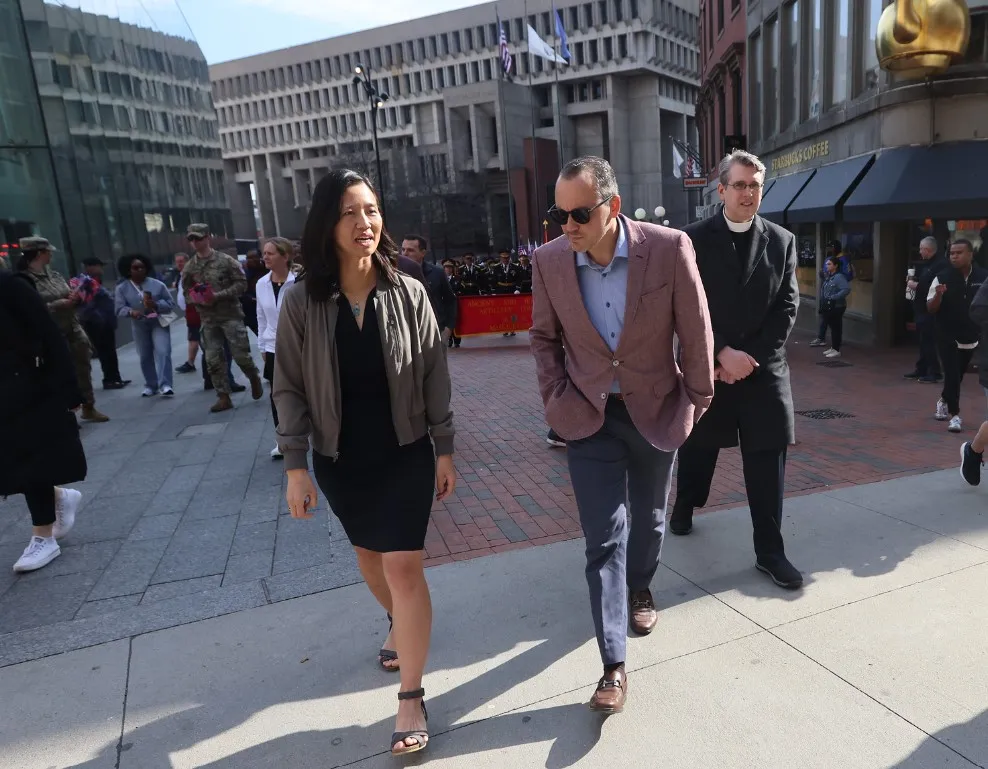person: (523, 146, 720, 724), (271, 159, 458, 759), (660, 147, 817, 594), (168, 218, 268, 413), (13, 218, 94, 422), (929, 225, 988, 424), (110, 244, 183, 401), (250, 231, 306, 401), (398, 221, 457, 354), (76, 244, 122, 400), (905, 234, 947, 379), (818, 255, 856, 362)
